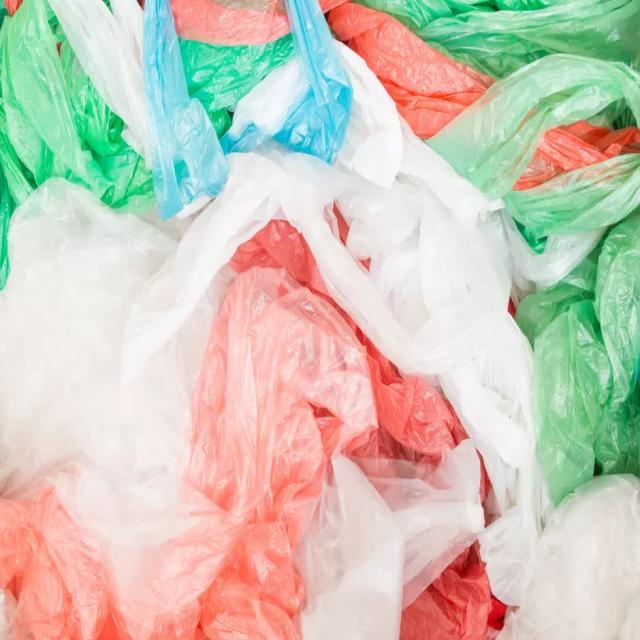Single-layer Plastic: (126, 46, 538, 602), (0, 178, 231, 603), (140, 266, 378, 638), (230, 219, 468, 464), (144, 0, 352, 217), (428, 54, 640, 238), (296, 441, 484, 638), (516, 212, 640, 504), (0, 0, 155, 212), (499, 475, 640, 640), (356, 1, 640, 79), (328, 2, 492, 136), (0, 486, 128, 639), (401, 542, 491, 640), (170, 0, 290, 45)
